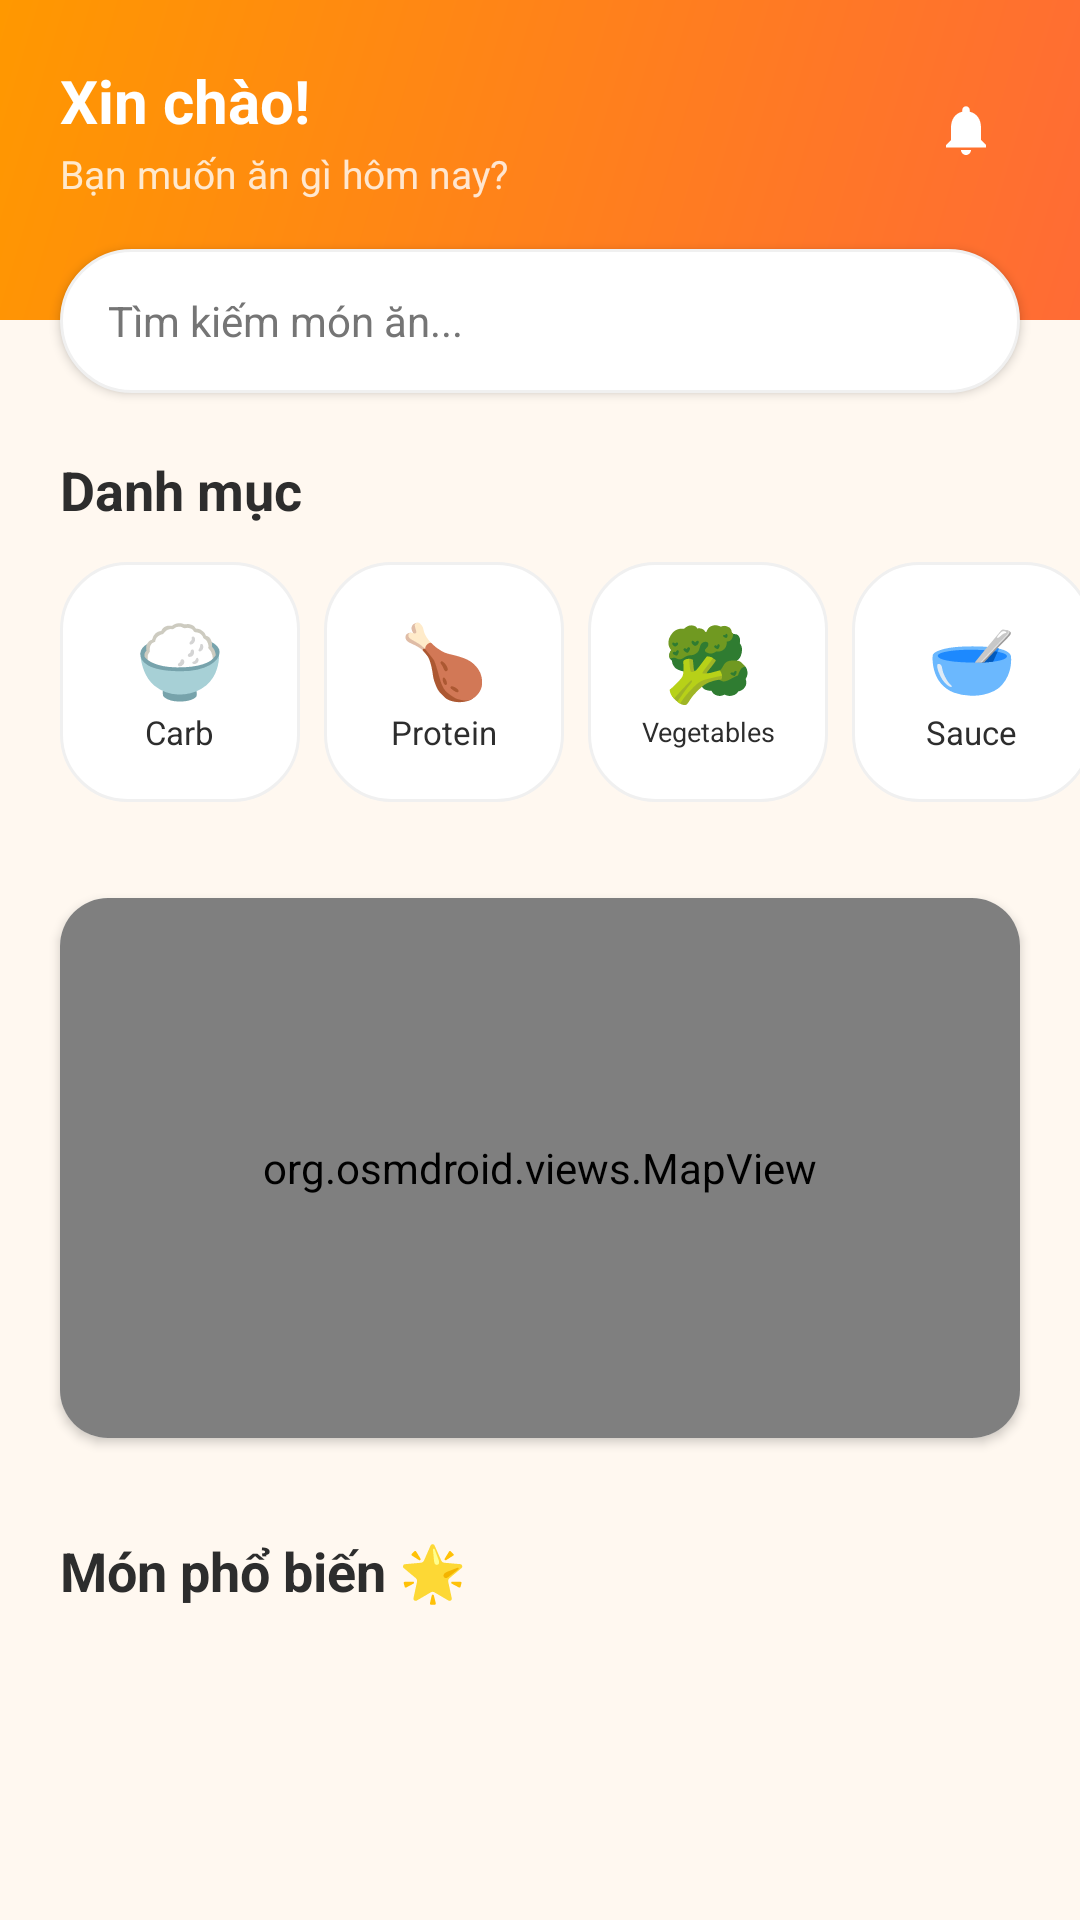

Icons on this 1080w x 1920h Android screen, each with its box as [x1,y1,x2,y2]:
notification: [946,106,986,155]
